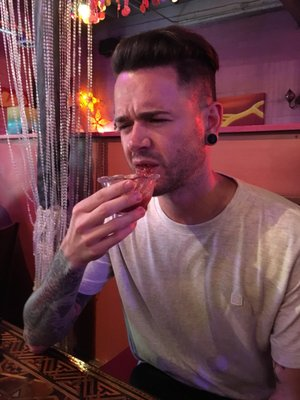pizza: (18, 27, 300, 399)
